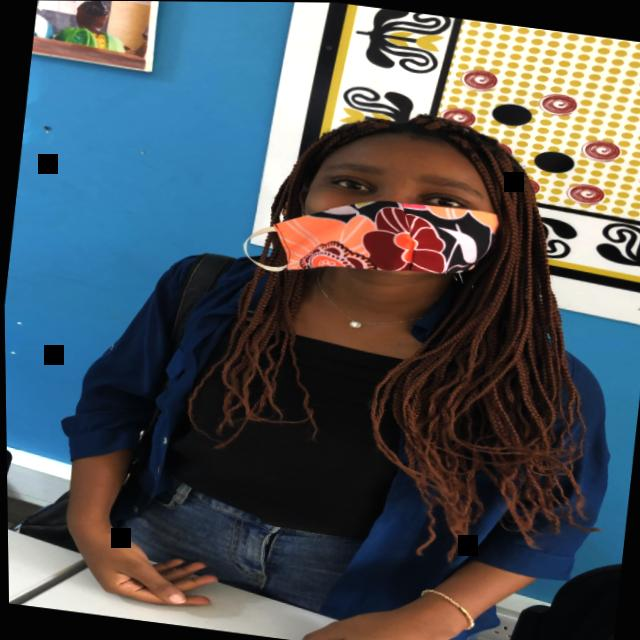Mask: (246, 100, 534, 351)
